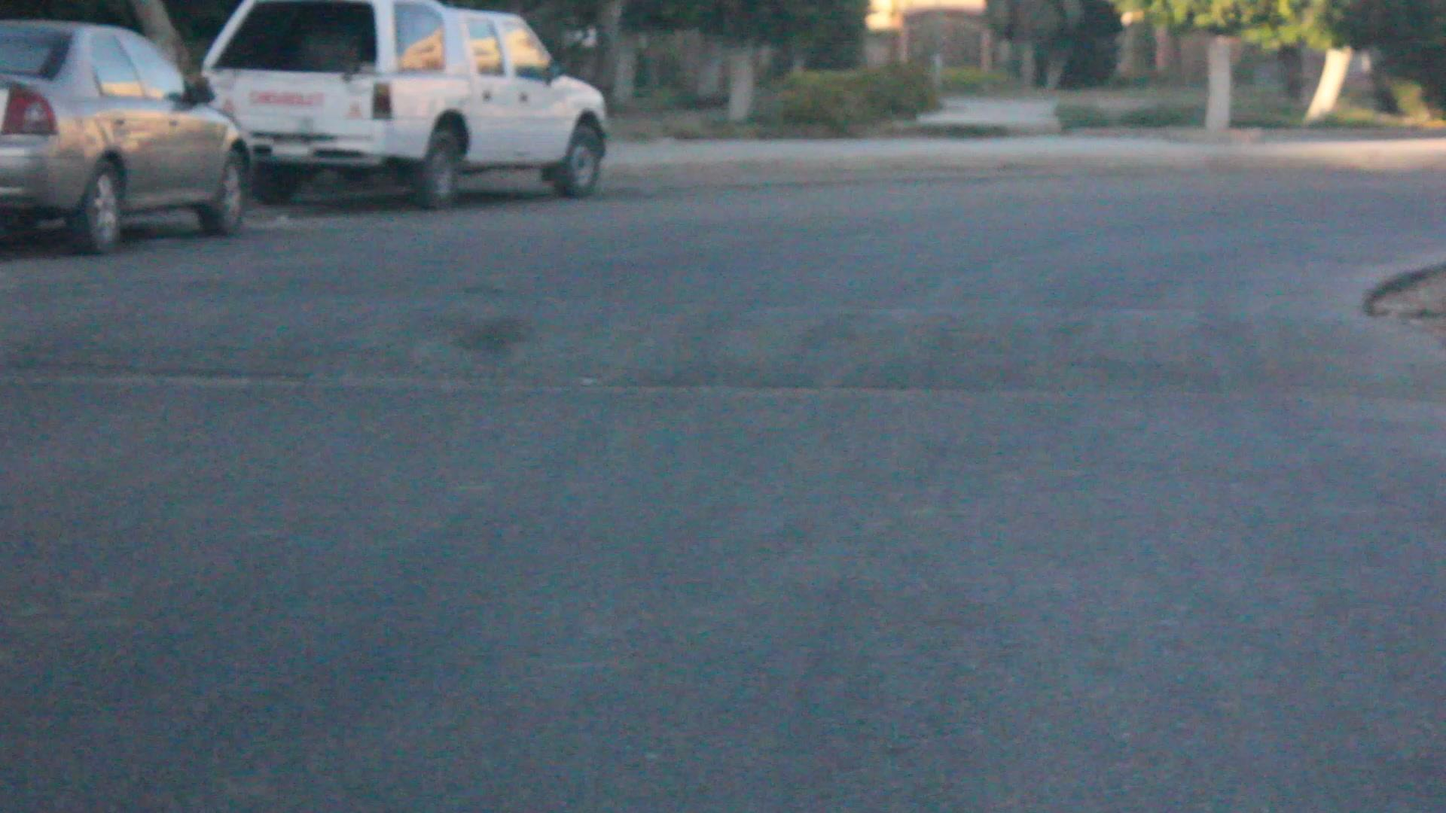Bump: (13, 267, 1446, 401)
